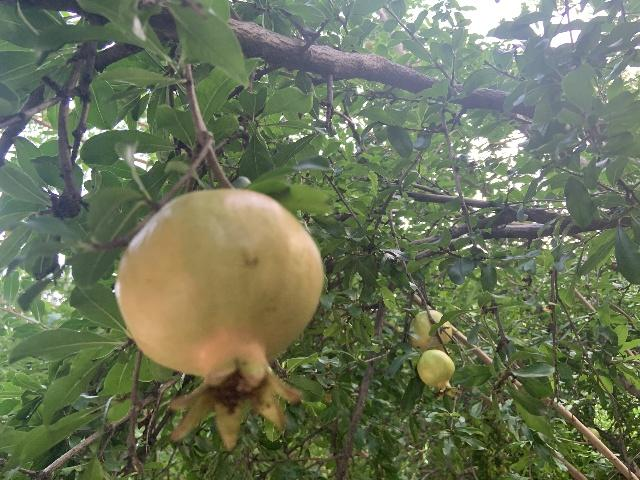mid-growth: (115, 186, 325, 450), (416, 349, 462, 400), (407, 309, 452, 355)
